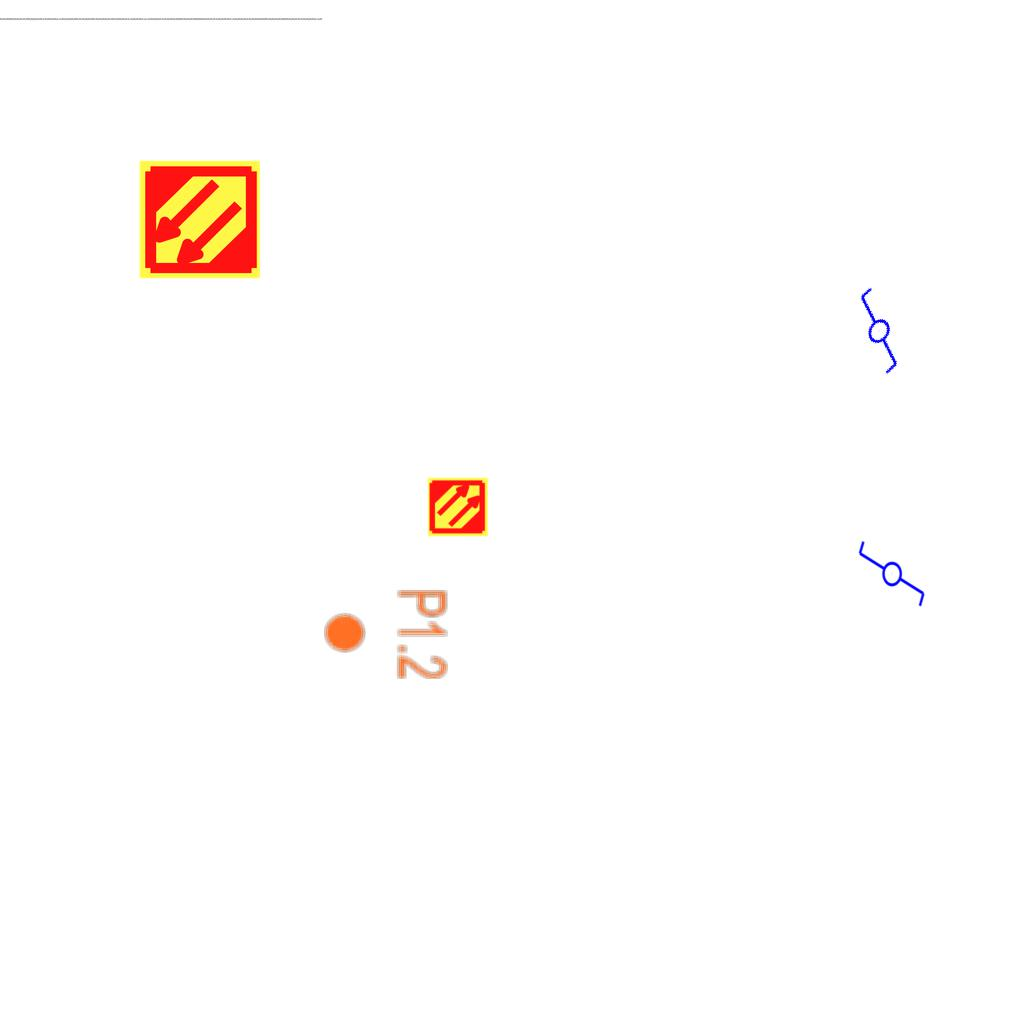ASR_Ansaugrauchmelder: (137, 157, 262, 282), (427, 476, 489, 538)
Downlight_LED_Einbauleuchten_Flur: (322, 588, 450, 681)
Wechselschalter: (825, 282, 927, 386), (855, 539, 927, 617)
